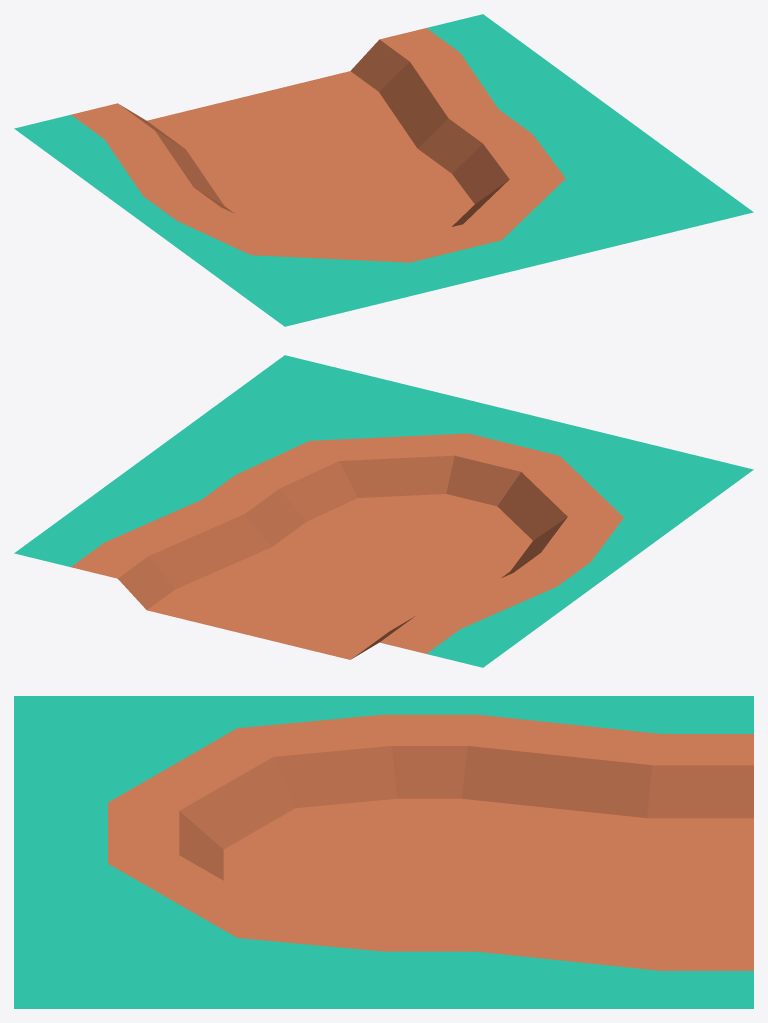
The model's file is ground_pathEndClosed.dae.
The picture shows the model from 3 angles, top to bottom: view 1: azimuth 30°, elevation 25°; view 2: azimuth 150°, elevation 25°; view 3: azimuth 270°, elevation 25°; orthographic projection. The views are drawn at different scales.
Visible parts, largest first — view 1: ground_pathEndClosed; view 2: ground_pathEndClosed; view 3: ground_pathEndClosed.
Part boxes in pixels (x1=…): ground_pathEndClosed: x1=14, y1=14, x2=753, y2=326; ground_pathEndClosed: x1=14, y1=355, x2=753, y2=667; ground_pathEndClosed: x1=14, y1=696, x2=753, y2=1008.
Size of the model in its own units: 1 by 0.05 by 1.
